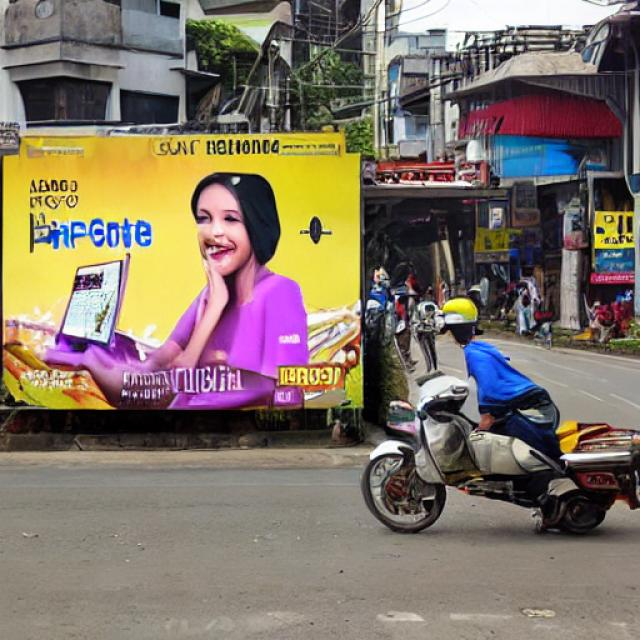Billboard: (0, 150, 368, 416)
